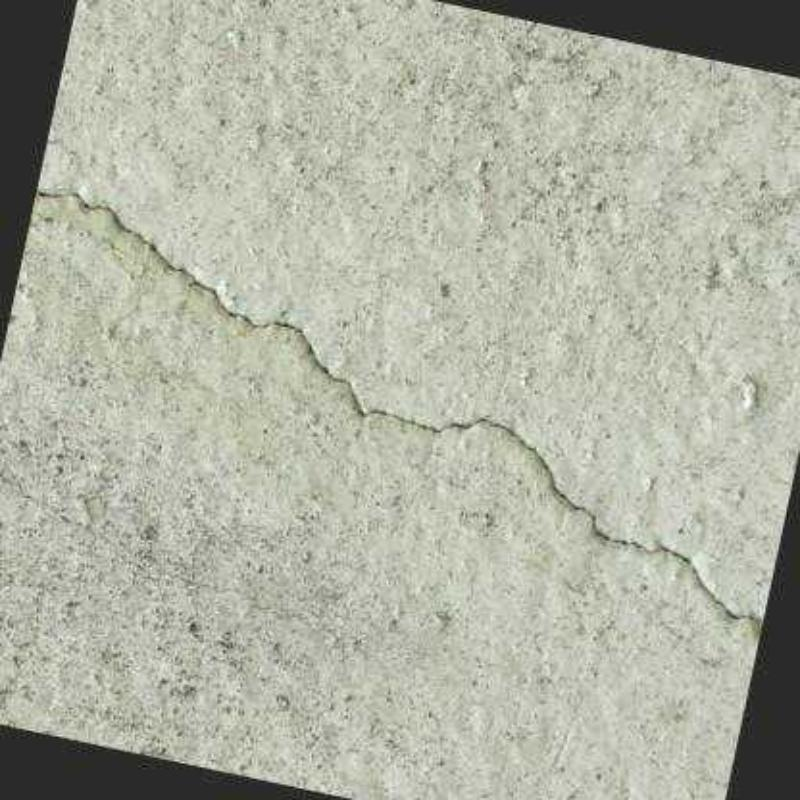pothole: (36, 186, 762, 631)
